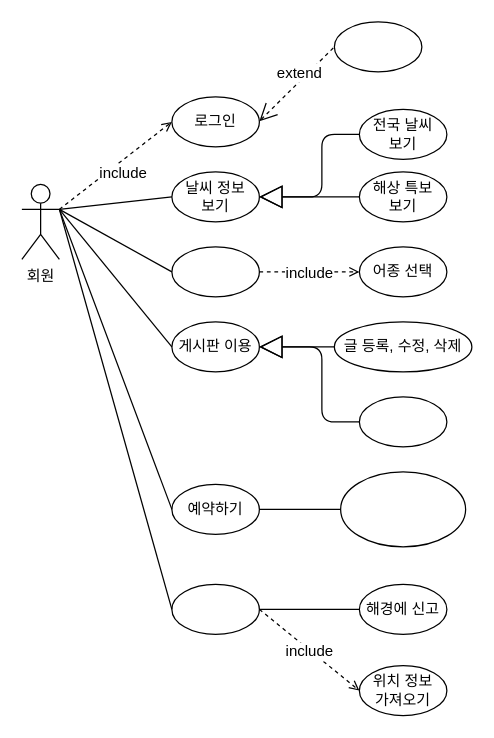
Image size: 494x738. Some labels were removed from this diagram. Each missing label, with the centre of its shape:
"SOS" belongs at [215,608].
"낚시 포인트 추천" belongs at [215,271].
"선박, 숙소, 맛집 패키지 예약" belongs at [402,509].
"팁 게시판" belongs at [402,421].
"회원가입" belongs at [377,46].
